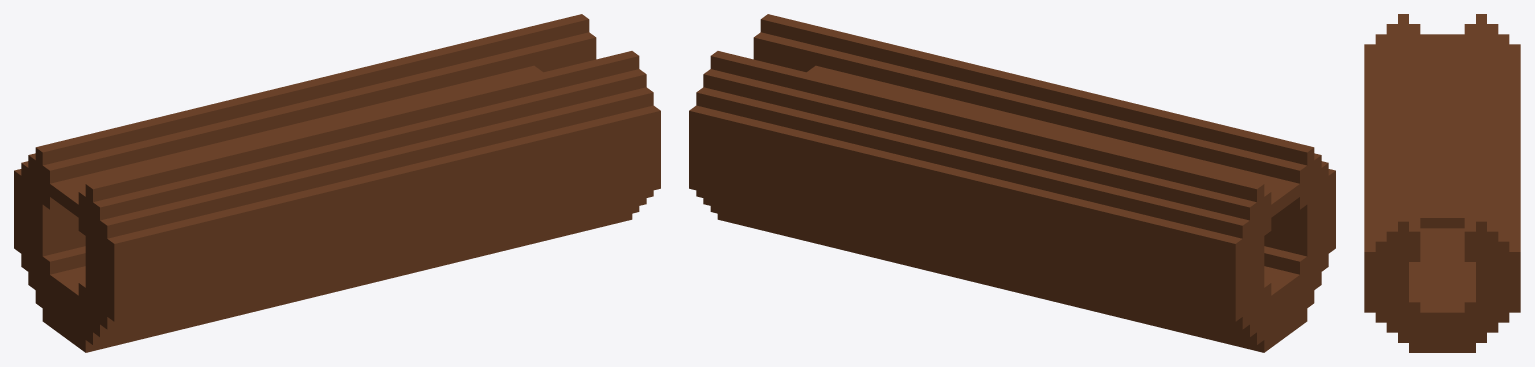
Rendered from forend_pump.glb.
3 views of the same model, side by side, from view 1: azimuth 30°, elevation 25°; view 2: azimuth 150°, elevation 25°; view 3: azimuth 270°, elevation 25° (orthographic). The views are drawn at different scales.
Visible parts, largest first — view 1: forend_pump:forend; view 2: forend_pump:forend; view 3: forend_pump:forend.
Boxes of the visible parts, box(x1,y1,x2,y2) form: forend_pump:forend: box(14, 14, 660, 352); forend_pump:forend: box(689, 14, 1335, 352); forend_pump:forend: box(1364, 14, 1520, 352).
Size of the model in its own units: 0.176 by 0.052 by 0.056.
